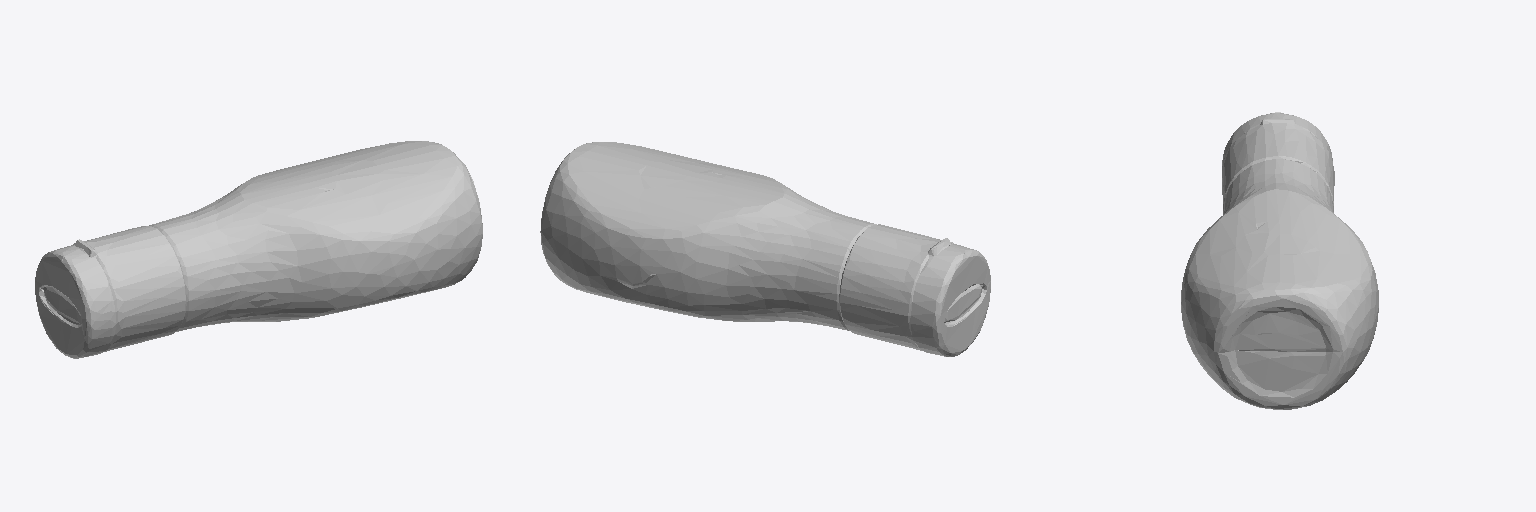
Rendered from SaladDressing.obj.
3 renders of one model, left to right at view 1: azimuth 30°, elevation 25°; view 2: azimuth 150°, elevation 25°; view 3: azimuth 270°, elevation 25°, orthographic.
Parts seen in each view (by area): view 1: textured.005; view 2: textured.005; view 3: textured.005.
Part boxes in pixels (bbox=[...]): textured.005: bbox=[35, 141, 482, 358]; textured.005: bbox=[540, 142, 990, 356]; textured.005: bbox=[1181, 112, 1378, 409].
Size of the model in its own units: 0.1474 by 0.0438 by 0.064.